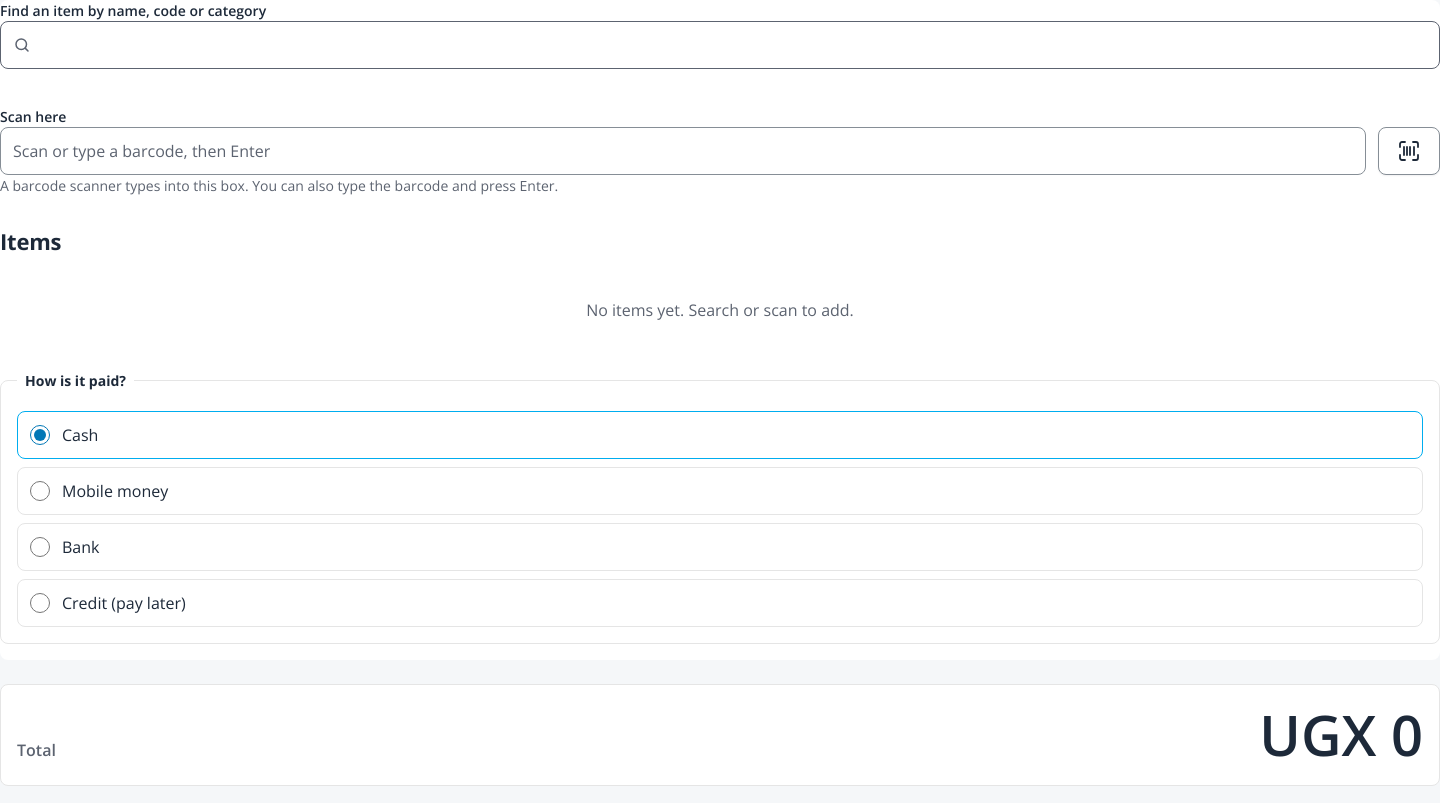
Scenario: #498 Sell › says Added with the quantity and flashes the line, picked or scanned
Type "LED bulb 9W screw" into the dropdown labelled "Find an item by name, code or category".
click(720, 45); type("LED bulb 9W screw")  # box [0,21,1439,69]
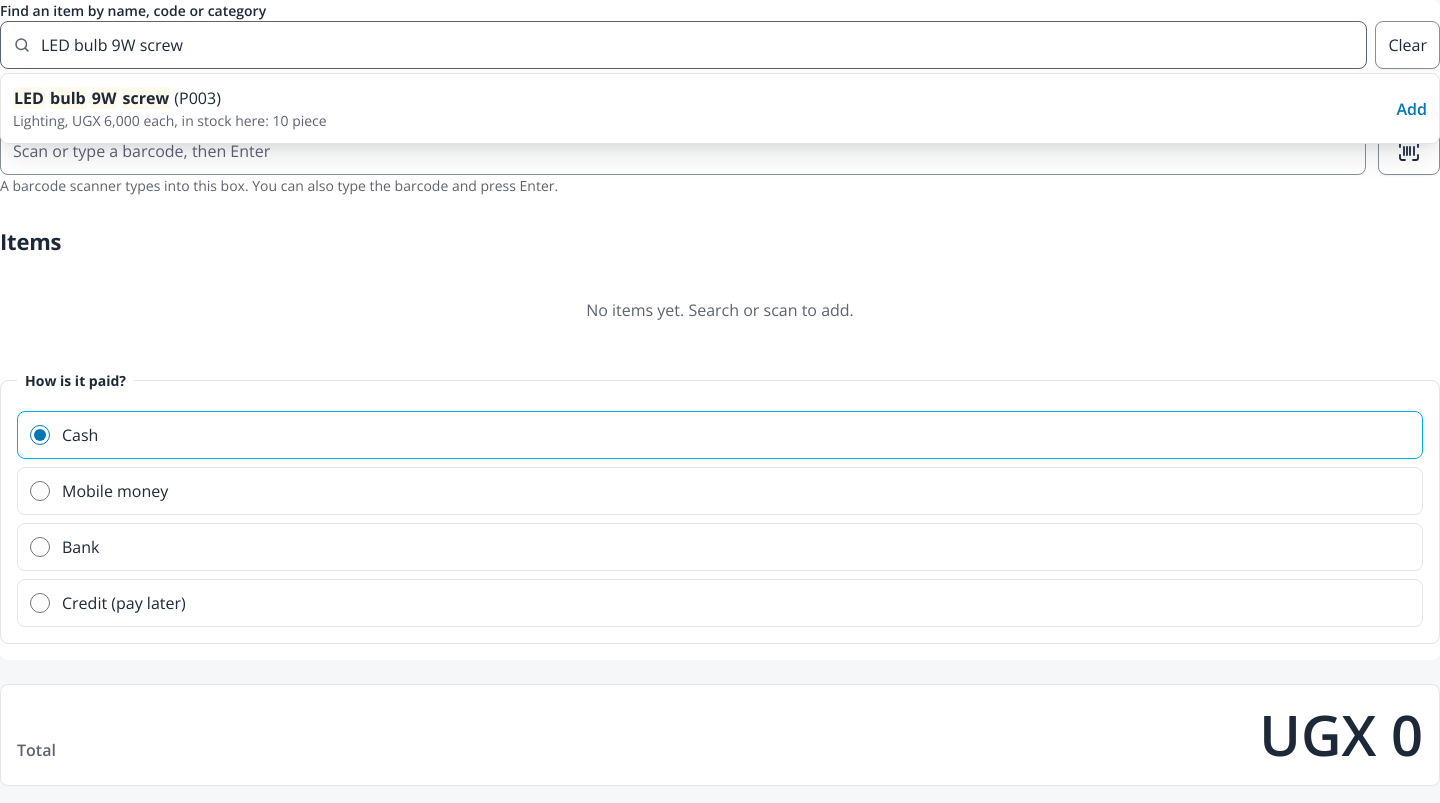
Click the option.
click(29, 98)  # box [1,78,1439,139]
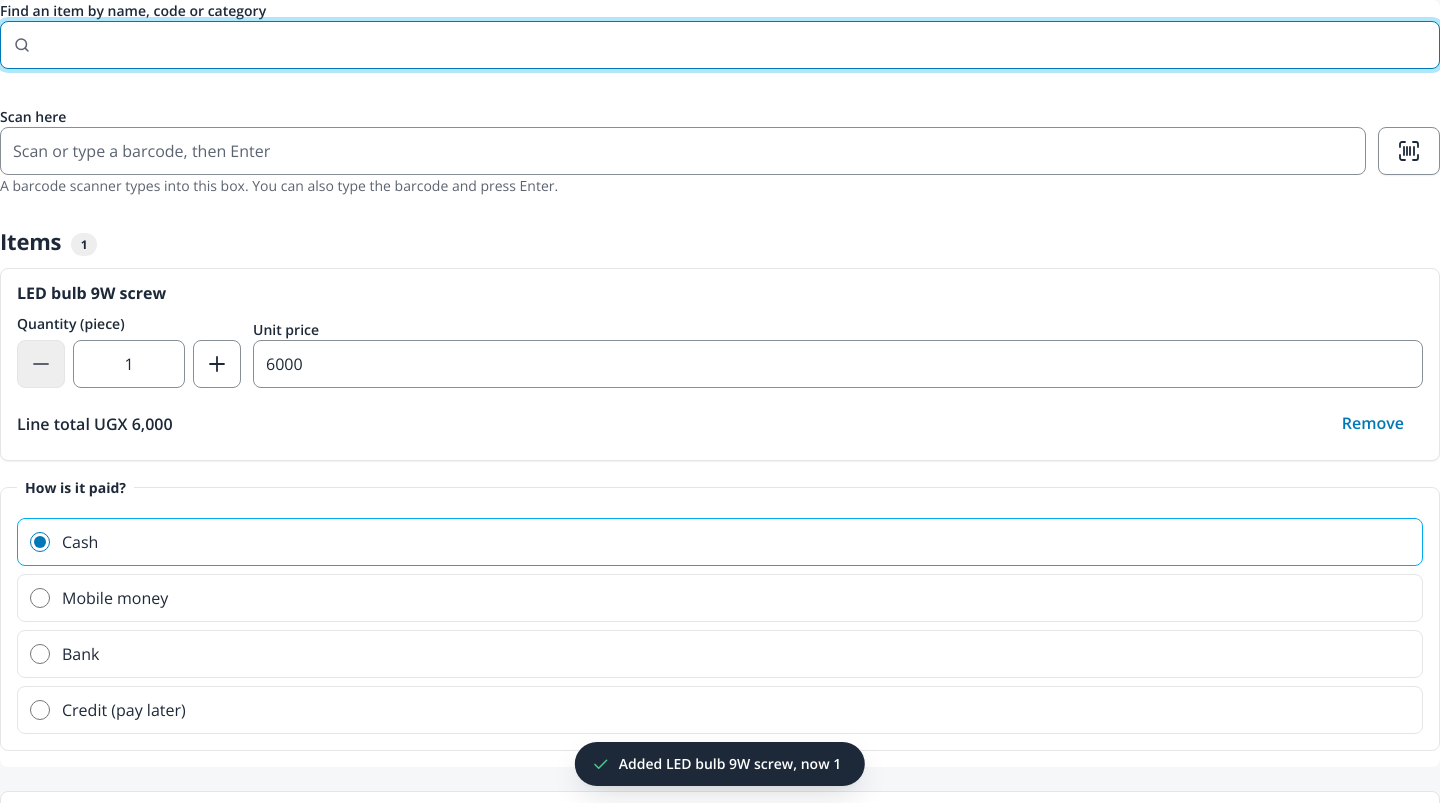
Type "4006381333931" into the field labelled "Scan here".
click(683, 151); type("4006381333931")  # box [0,127,1366,175]
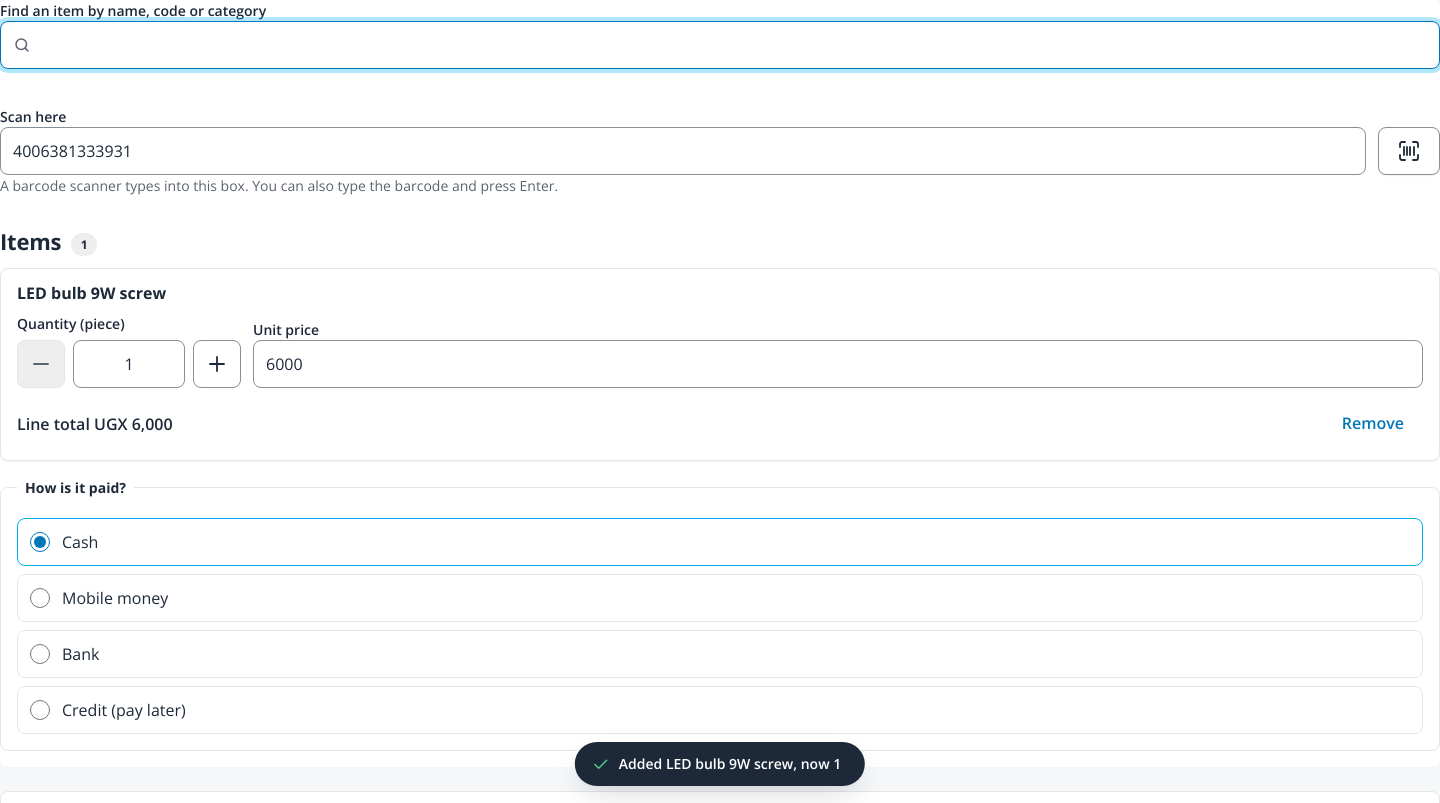
Press Enter in the field labelled "Scan here", box [0,127,1366,175]
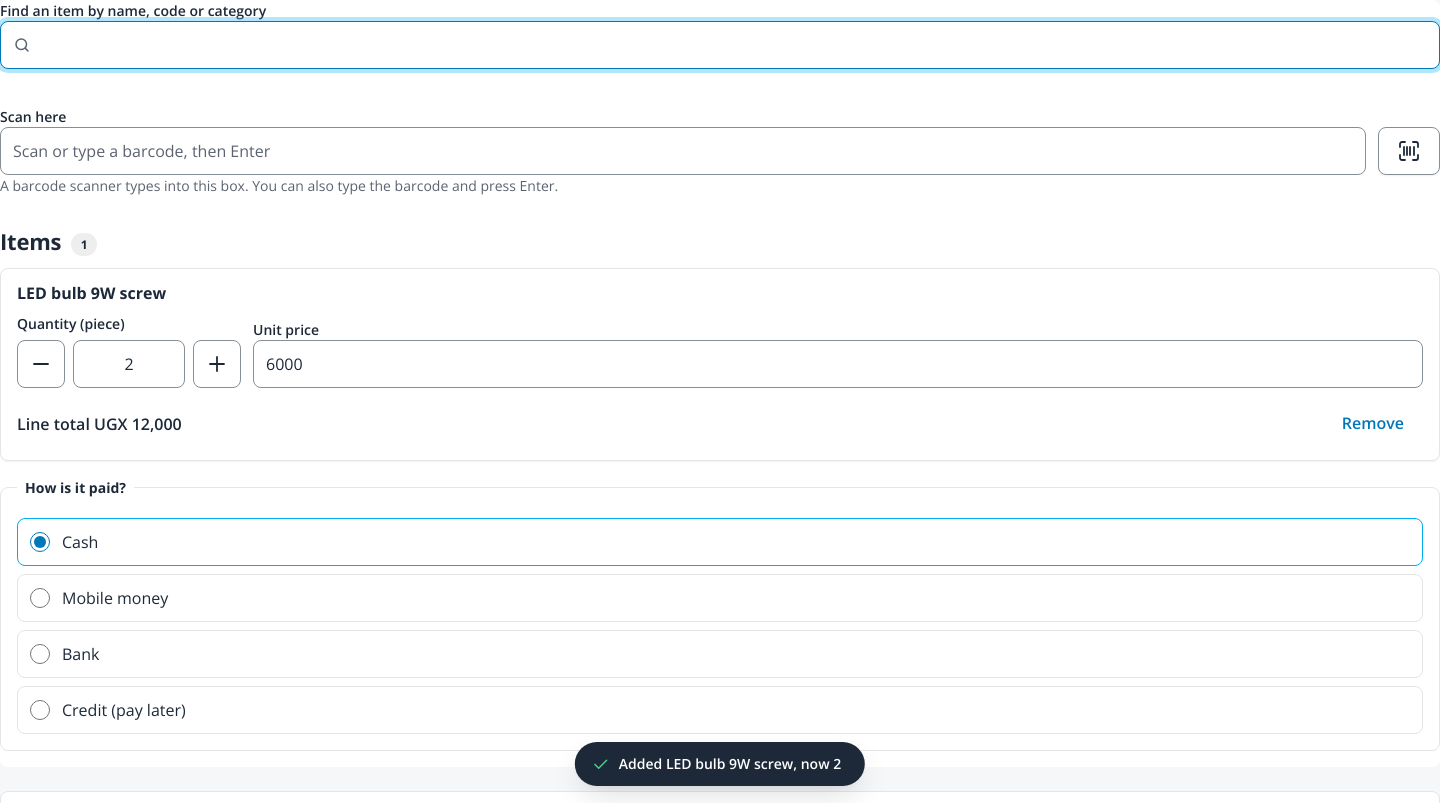
Now the field labelled "Quantity (piece)" holds "2", box [73,340,185,388]
